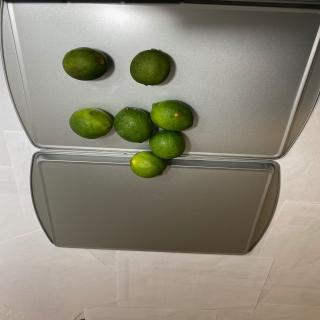Apple: (62, 47, 108, 81), (130, 48, 171, 86)
Lemon: (69, 108, 113, 140), (148, 130, 186, 159), (129, 151, 167, 178)
